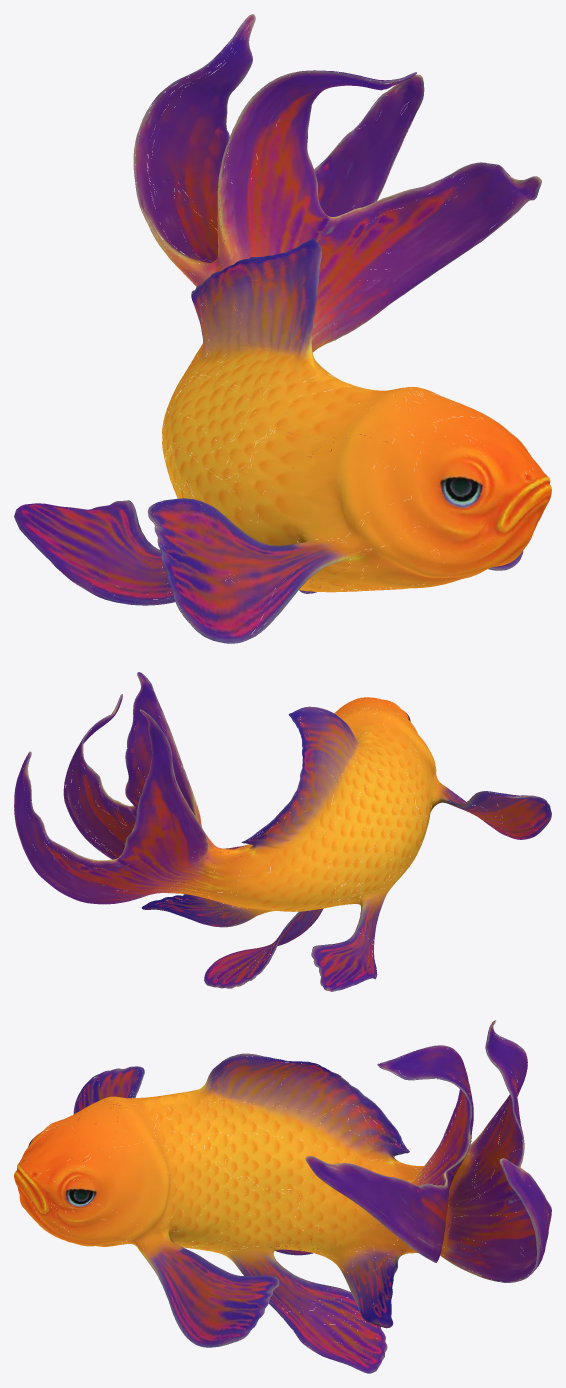
Rendered from fish-transformed.glb.
3 views of the same model, one above another, from view 1: azimuth 30°, elevation 25°; view 2: azimuth 150°, elevation 25°; view 3: azimuth 270°, elevation 25° (orthographic). The views are drawn at different scales.
Parts seen in each view (by area): view 1: G_Fish67; view 2: G_Fish67; view 3: G_Fish67.
Boxes of the visible parts, box(x1,y1,x2,y2) form: G_Fish67: box(14, 14, 551, 643); G_Fish67: box(14, 672, 551, 991); G_Fish67: box(14, 1020, 551, 1373).
Size of the model in its own units: 6.41 by 5.43 by 7.37.
Materials: 1 (1 with a texture image).
